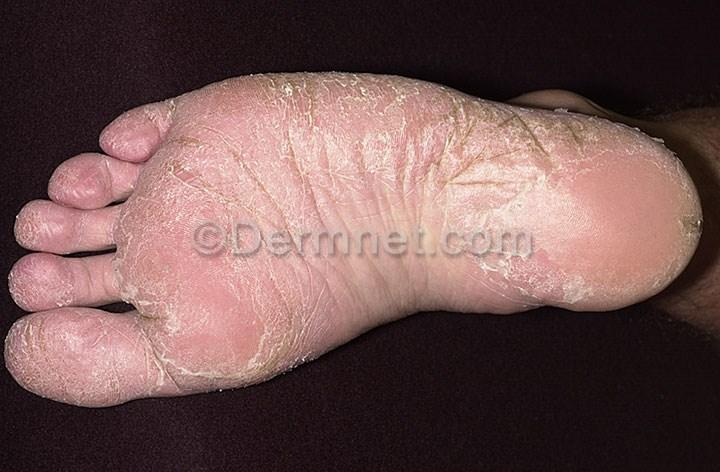Eczema: (321, 103, 491, 227), (163, 102, 324, 227), (476, 118, 645, 232), (184, 268, 323, 380), (315, 255, 537, 322), (20, 319, 183, 397), (538, 228, 648, 305), (642, 137, 706, 257), (119, 239, 188, 323), (204, 78, 458, 100), (13, 257, 85, 317), (112, 177, 165, 236), (50, 161, 114, 206), (20, 208, 83, 241), (110, 118, 152, 153)
